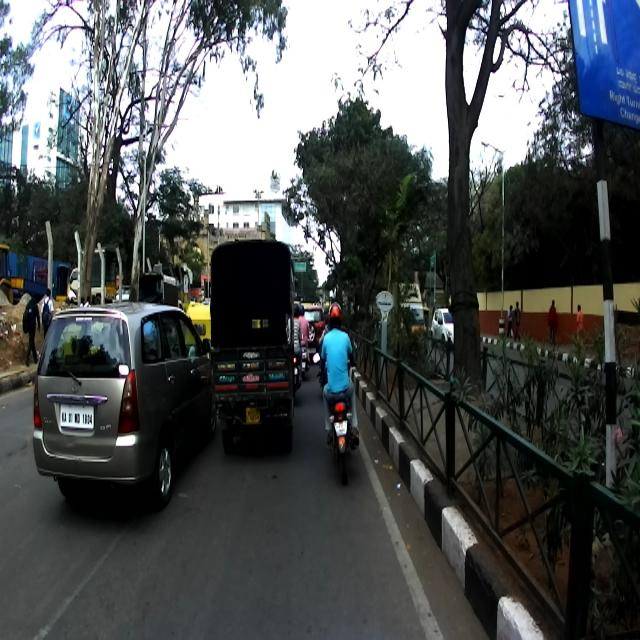Car_Toyota: (32, 302, 215, 507)
autorickshaw: (210, 238, 294, 454)
motorcycle_bajaj: (313, 339, 359, 485)
